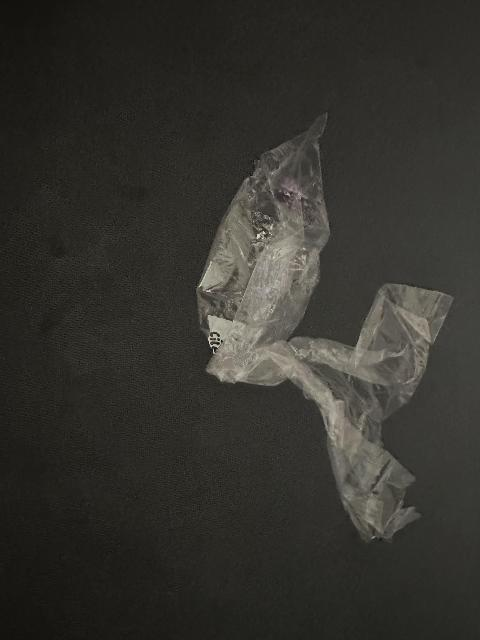Plastik: (200, 121, 451, 540)
